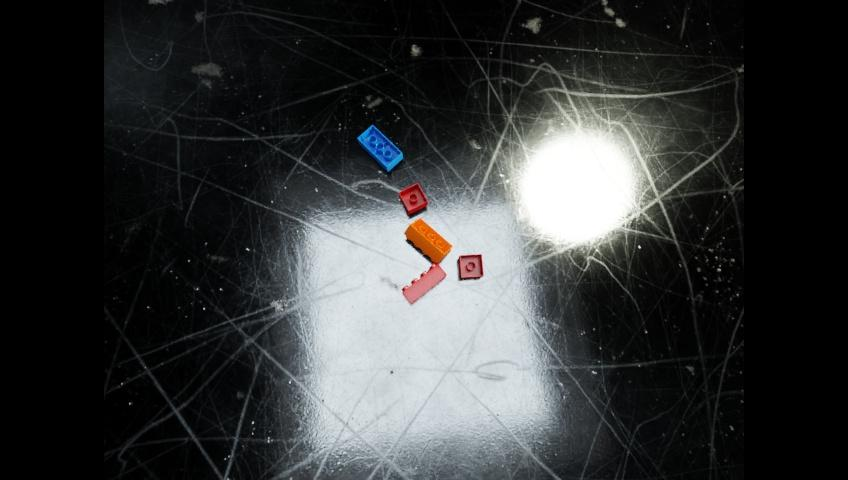2x2_red: (399, 182, 427, 214), (458, 253, 483, 278)
4x2_blue: (357, 124, 401, 171)
4x2_orange: (404, 219, 453, 264)
4x2_red: (401, 262, 446, 303)
